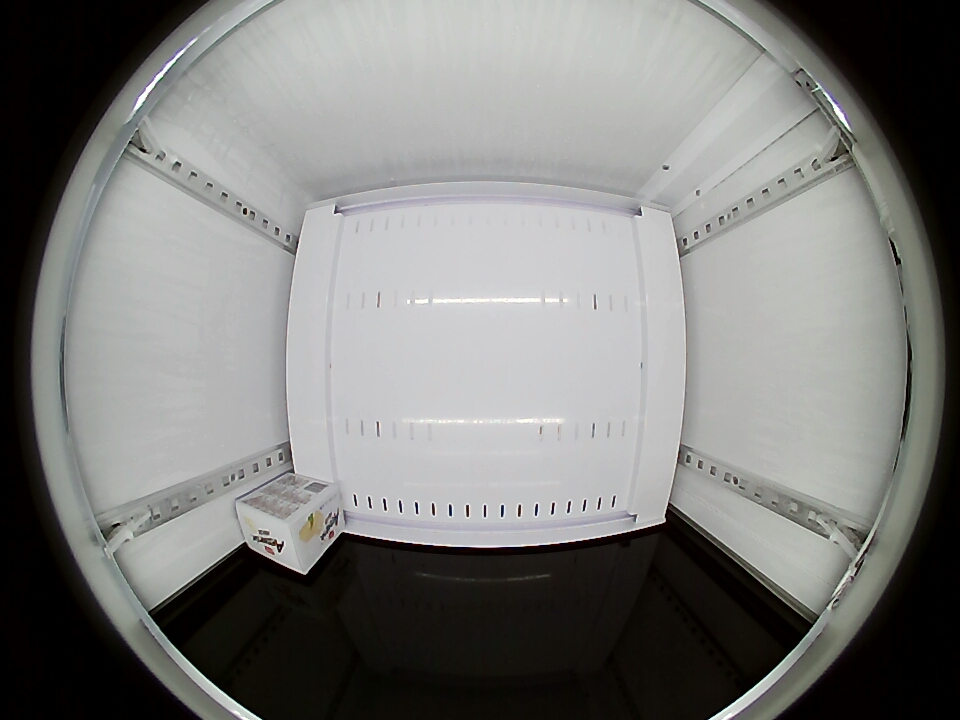meiniye: (235, 490, 322, 576)
